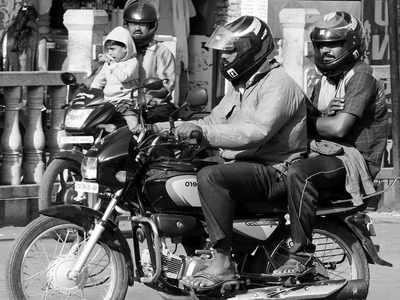Helmet: (308, 11, 387, 178), (209, 15, 277, 89)
